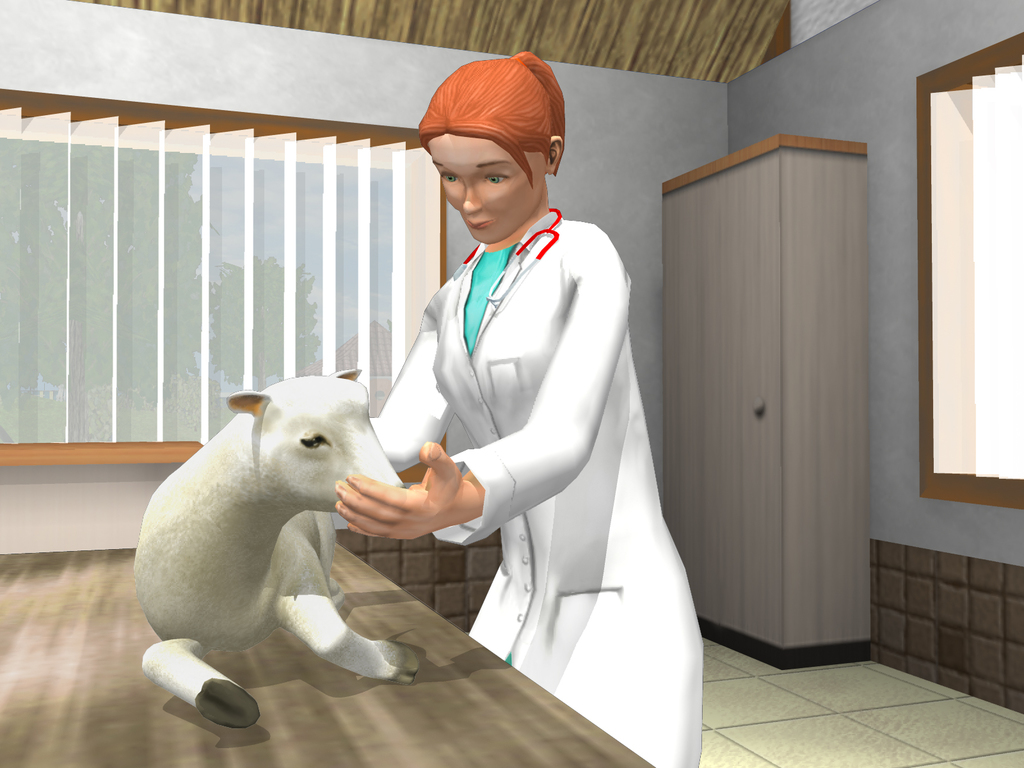Animal: (133, 365, 428, 727)
